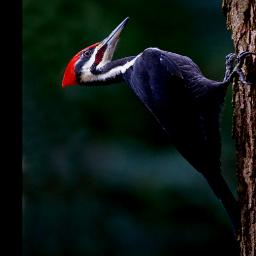Woodpecker: (62, 17, 256, 254)
